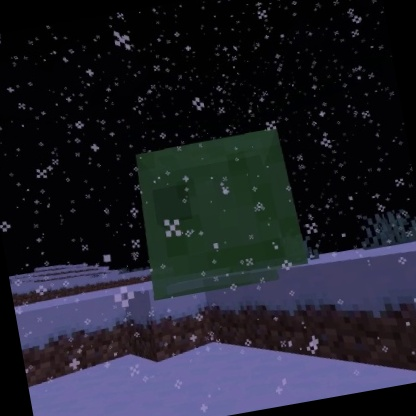slime: (122, 119, 313, 306)
